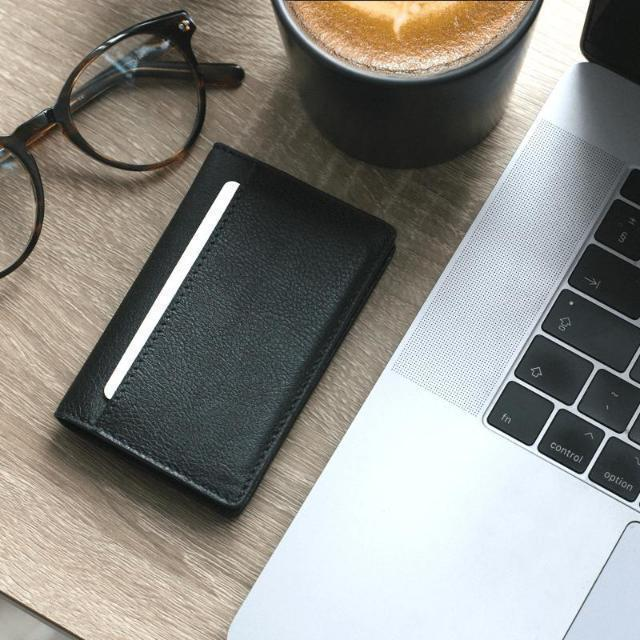wallet: (54, 138, 404, 524)
